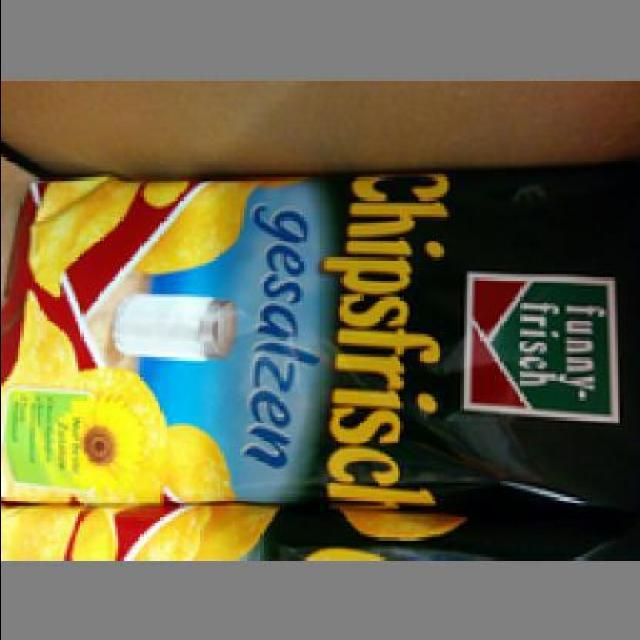Chips: (6, 160, 637, 529)
